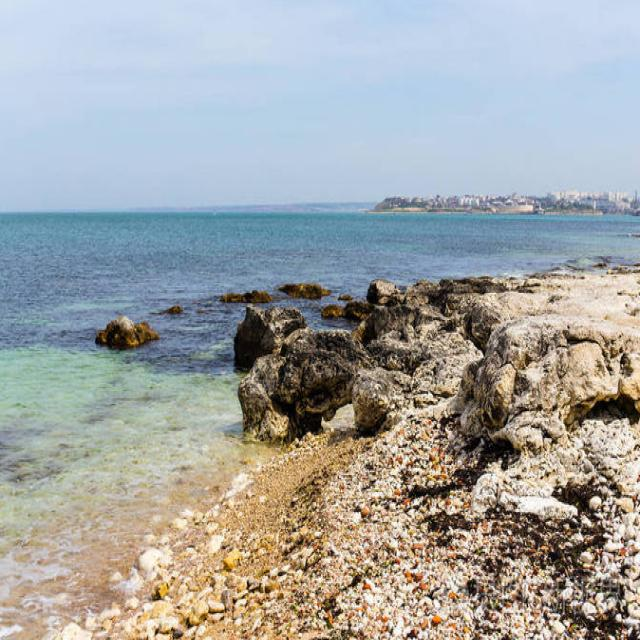reef: (96, 248, 452, 378)
